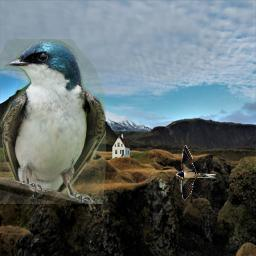Swallow: (0, 39, 106, 204), (176, 145, 217, 201)
